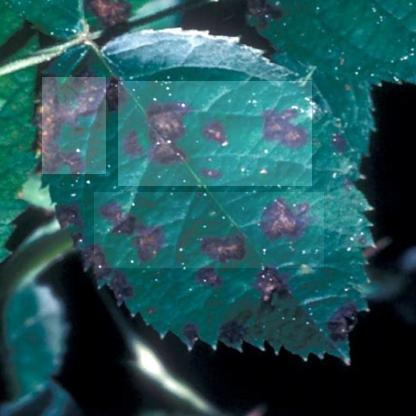black-spot: (118, 81, 312, 186), (94, 192, 324, 268), (42, 77, 106, 174)
